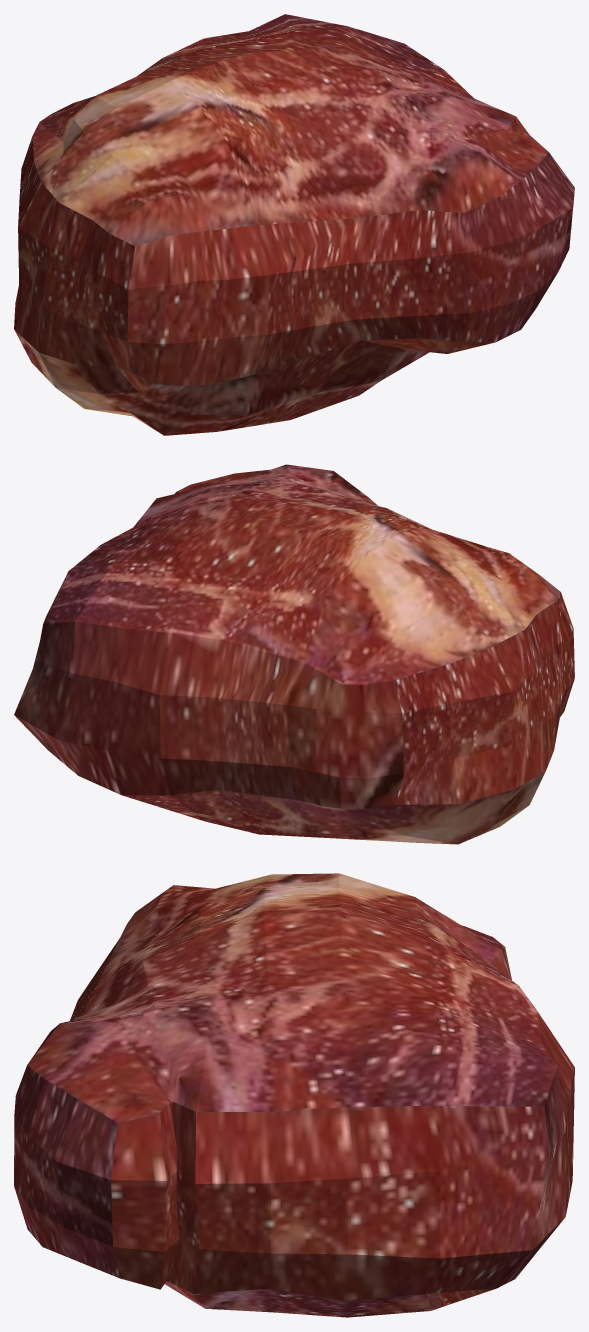
Rendered from Meat.fbx.
The picture shows the model from 3 angles, top to bottom: view 1: azimuth 30°, elevation 25°; view 2: azimuth 150°, elevation 25°; view 3: azimuth 270°, elevation 25°; orthographic projection. The views are drawn at different scales.
Parts seen in each view (by area): view 1: polySurface53, polySurface143, polySurface87, polySurface63, polySurface142, polySurface205, polySurface117, polySurface66, polySurface159, polySurface12, polySurface97, polySurface51 (+99 smaller); view 2: polySurface152, polySurface25, polySurface46, polySurface109, polySurface38, polySurface156, polySurface150, polySurface72, polySurface127, polySurface29, polySurface40, polySurface54 (+80 smaller); view 3: polySurface45, polySurface58, polySurface79, polySurface151, polySurface92, polySurface26, polySurface57, polySurface48, polySurface129, polySurface31, polySurface130, polySurface128 (+66 smaller).
Boxes of the visible parts, box(x1,y1,x2,y2) form: polySurface53: box(267, 263, 353, 334); polySurface143: box(242, 161, 359, 225); polySurface87: box(254, 218, 360, 274); polySurface63: box(352, 258, 417, 319); polySurface142: box(226, 124, 320, 188); polySurface205: box(246, 340, 360, 414); polySurface117: box(321, 141, 405, 217); polySurface66: box(416, 252, 468, 315); polySurface159: box(198, 87, 292, 144); polySurface12: box(253, 319, 361, 374); polySurface97: box(352, 210, 419, 263); polySurface51: box(225, 274, 269, 338); polySurface152: box(223, 577, 332, 662); polySurface25: box(214, 697, 291, 766); polySurface46: box(214, 640, 304, 704); polySurface109: box(169, 569, 268, 639); polySurface38: box(159, 695, 216, 760); polySurface156: box(269, 531, 368, 594); polySurface150: box(123, 561, 214, 632); polySurface72: box(159, 633, 223, 697); polySurface127: box(75, 559, 164, 628); polySurface29: box(108, 682, 160, 758); polySurface40: box(58, 673, 114, 750); polySurface54: box(402, 701, 459, 773); polySurface45: box(439, 1152, 549, 1258); polySurface58: box(348, 1171, 439, 1258); polySurface79: box(429, 1106, 549, 1170); polySurface151: box(429, 1045, 556, 1106); polySurface92: box(344, 1106, 439, 1178); polySurface26: box(270, 1178, 347, 1254); polySurface57: box(195, 1112, 271, 1183); polySurface48: box(271, 1107, 347, 1183); polySurface129: box(343, 1045, 436, 1107); polySurface31: box(195, 1183, 270, 1253); polySurface130: box(196, 1045, 271, 1111); polySurface128: box(271, 1049, 344, 1111).
Size of the model in its own units: 3.62 by 2.31 by 3.26.
Materials: 1 (1 with a texture image).
